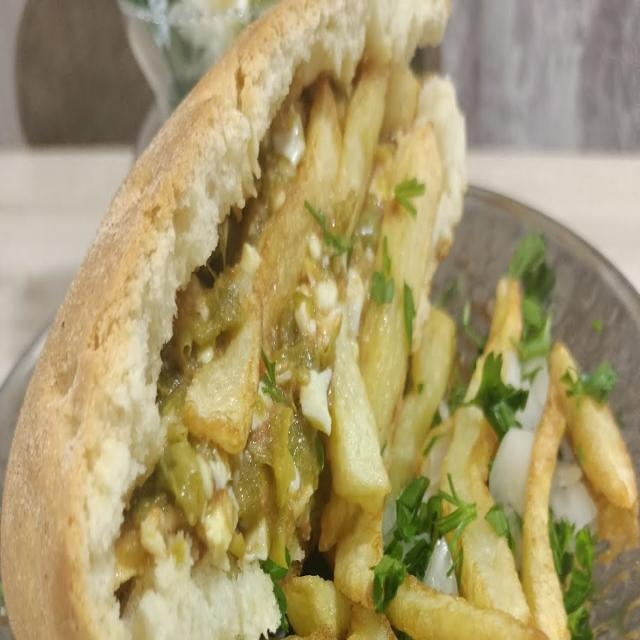Sandwitch tounsi: (18, 0, 423, 626)
